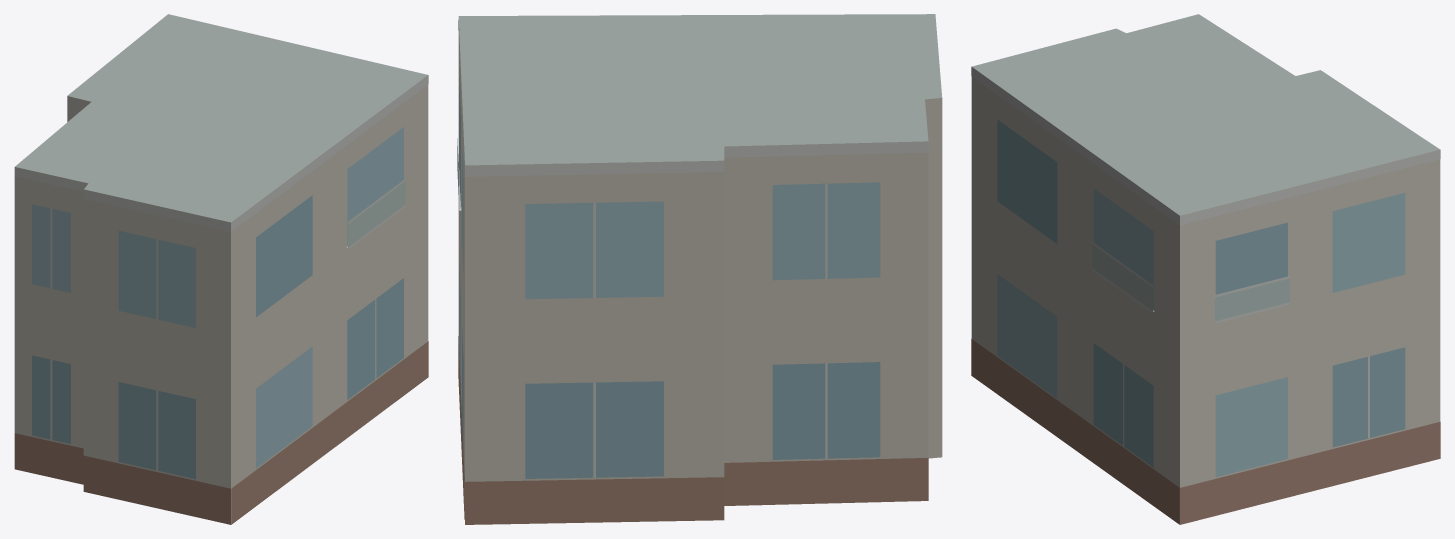
File: survey-upis-32591156.glb
The picture shows the model from 3 angles, left to right: view 1: azimuth 30°, elevation 25°; view 2: azimuth 150°, elevation 25°; view 3: azimuth 270°, elevation 25°; orthographic projection. The views are drawn at different scales.
Visible parts, largest first — view 1: survey-upis-32591156.tmp; view 2: survey-upis-32591156.tmp; view 3: survey-upis-32591156.tmp.
Boxes of the visible parts, x1=… form: survey-upis-32591156.tmp: x1=14, y1=14, x2=428, y2=524; survey-upis-32591156.tmp: x1=457, y1=14, x2=942, y2=524; survey-upis-32591156.tmp: x1=971, y1=14, x2=1440, y2=524.
Bounding box in the file's own units: 10.93 × 7.8 × 10.73.
